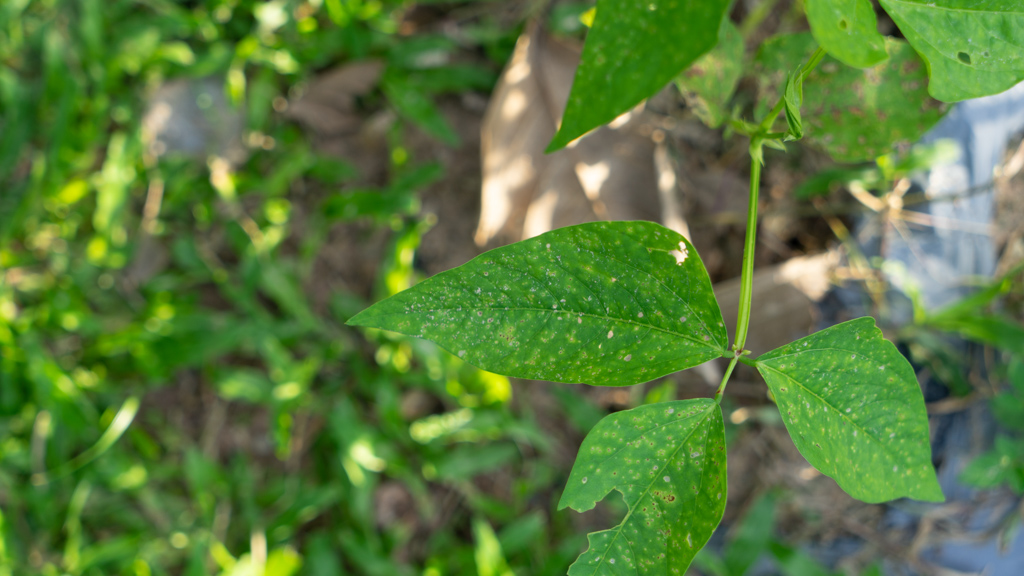Rust: (408, 232, 721, 379), (776, 326, 938, 506), (559, 12, 712, 142), (589, 410, 710, 563)
